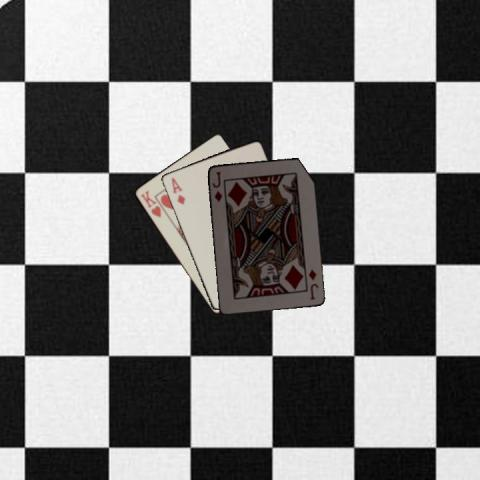Ad: (168, 175, 187, 206)
Jd: (210, 168, 224, 203), (306, 266, 319, 301)
Kh: (137, 187, 162, 219)
